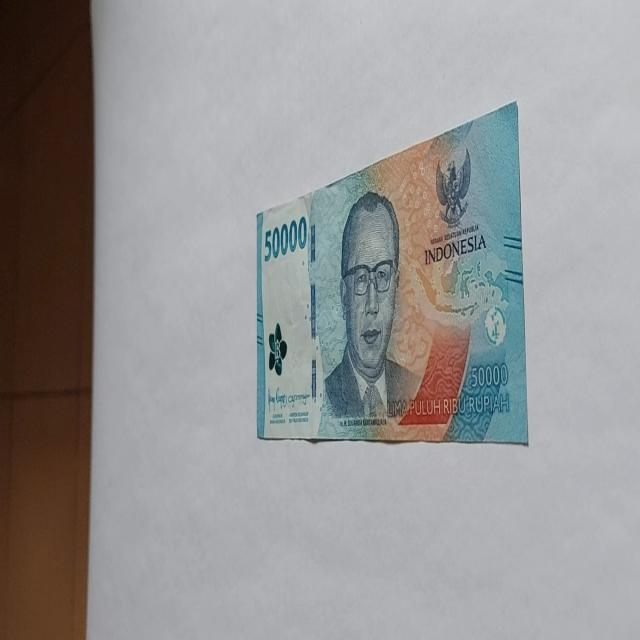lima puluh ribu rupiah: (254, 100, 528, 447), (319, 190, 423, 428)
